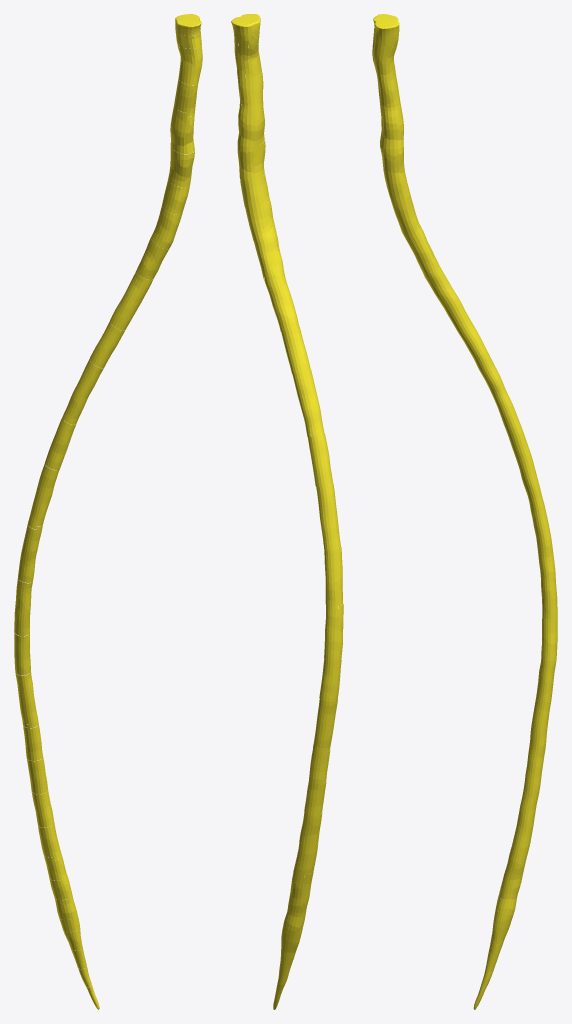
File: VH_M_Spinal_Cord_0.4.glb
The picture shows the model from 3 angles, left to right: view 1: azimuth 90°, elevation 25°; view 2: azimuth 210°, elevation 25°; view 3: azimuth 270°, elevation 25°; orthographic projection. The views are drawn at different scales.
Parts seen in each view (by area): view 1: VH_M_second_thoracic_spinal_cord_segment, VH_M_fourth_thoracic_spinal_cord_segment, VH_M_sixth_thoracic_spinal_cord_segment, VH_M_C5_segment_of_cervical_spinal_cord, VH_M_seventh_thoracic_spinal_cord_segment, VH_M_eighth_thoracic_spinal_cord_segment, VH_M_tenth_thoracic_spinal_cord_segment, VH_M_C3_segment_of_cervical_spinal_cord, VH_M_fifth_thoracic_spinal_cord_segment, VH_M_C8_segment_of_cervical_spinal_cord, VH_M_C6_segment_of_cervical_spinal_cord, VH_M_third_thoracic_spinal_cord_segment (+9 smaller); view 2: VH_M_fourth_thoracic_spinal_cord_segment, VH_M_second_thoracic_spinal_cord_segment, VH_M_sixth_thoracic_spinal_cord_segment, VH_M_C5_segment_of_cervical_spinal_cord, VH_M_seventh_thoracic_spinal_cord_segment, VH_M_eighth_thoracic_spinal_cord_segment, VH_M_fifth_thoracic_spinal_cord_segment, VH_M_tenth_thoracic_spinal_cord_segment, VH_M_C6_segment_of_cervical_spinal_cord, VH_M_C8_segment_of_cervical_spinal_cord, VH_M_third_thoracic_spinal_cord_segment, VH_M_first_thoracic_spinal_cord_segment (+13 smaller); view 3: VH_M_second_thoracic_spinal_cord_segment, VH_M_fourth_thoracic_spinal_cord_segment, VH_M_sixth_thoracic_spinal_cord_segment, VH_M_C5_segment_of_cervical_spinal_cord, VH_M_seventh_thoracic_spinal_cord_segment, VH_M_tenth_thoracic_spinal_cord_segment, VH_M_eighth_thoracic_spinal_cord_segment, VH_M_fifth_thoracic_spinal_cord_segment, VH_M_C6_segment_of_cervical_spinal_cord, VH_M_C3_segment_of_cervical_spinal_cord, VH_M_third_thoracic_spinal_cord_segment, VH_M_ninth_thoracic_spinal_cord_segment (+9 smaller).
Boxes of the visible parts, x1,y1,x2,y2 form: VH_M_second_thoracic_spinal_cord_segment: [109, 270, 152, 330]; VH_M_fourth_thoracic_spinal_cord_segment: [62, 359, 103, 424]; VH_M_sixth_thoracic_spinal_cord_segment: [28, 464, 60, 529]; VH_M_C5_segment_of_cervical_spinal_cord: [170, 105, 194, 153]; VH_M_seventh_thoracic_spinal_cord_segment: [18, 524, 42, 582]; VH_M_eighth_thoracic_spinal_cord_segment: [14, 578, 32, 636]; VH_M_tenth_thoracic_spinal_cord_segment: [15, 669, 38, 727]; VH_M_C3_segment_of_cervical_spinal_cord: [177, 42, 202, 85]; VH_M_fifth_thoracic_spinal_cord_segment: [45, 417, 75, 470]; VH_M_C8_segment_of_cervical_spinal_cord: [151, 206, 182, 249]; VH_M_C6_segment_of_cervical_spinal_cord: [168, 145, 194, 187]; VH_M_third_thoracic_spinal_cord_segment: [89, 322, 124, 367]; VH_M_fourth_thoracic_spinal_cord_segment: [292, 369, 324, 436]; VH_M_second_thoracic_spinal_cord_segment: [264, 271, 299, 331]; VH_M_sixth_thoracic_spinal_cord_segment: [316, 483, 340, 550]; VH_M_C5_segment_of_cervical_spinal_cord: [237, 101, 264, 146]; VH_M_seventh_thoracic_spinal_cord_segment: [324, 547, 342, 609]; VH_M_eighth_thoracic_spinal_cord_segment: [324, 604, 343, 661]; VH_M_fifth_thoracic_spinal_cord_segment: [307, 433, 332, 486]; VH_M_tenth_thoracic_spinal_cord_segment: [313, 699, 337, 752]; VH_M_C6_segment_of_cervical_spinal_cord: [237, 141, 265, 179]; VH_M_C8_segment_of_cervical_spinal_cord: [245, 201, 276, 241]; VH_M_third_thoracic_spinal_cord_segment: [281, 327, 310, 373]; VH_M_first_thoracic_spinal_cord_segment: [254, 236, 283, 280]; VH_M_second_thoracic_spinal_cord_segment: [422, 260, 463, 317]; VH_M_fourth_thoracic_spinal_cord_segment: [470, 344, 510, 406]; VH_M_sixth_thoracic_spinal_cord_segment: [512, 445, 544, 509]; VH_M_C5_segment_of_cervical_spinal_cord: [380, 102, 403, 149]; VH_M_seventh_thoracic_spinal_cord_segment: [529, 502, 554, 564]; VH_M_tenth_thoracic_spinal_cord_segment: [534, 659, 556, 716]; VH_M_eighth_thoracic_spinal_cord_segment: [539, 562, 557, 618]; VH_M_fifth_thoracic_spinal_cord_segment: [497, 399, 527, 450]; VH_M_C6_segment_of_cervical_spinal_cord: [380, 143, 405, 183]; VH_M_C3_segment_of_cervical_spinal_cord: [372, 41, 396, 81]; VH_M_third_thoracic_spinal_cord_segment: [449, 308, 483, 352]; VH_M_ninth_thoracic_spinal_cord_segment: [541, 614, 557, 660].
Size of the model in its own units: 0.0207 by 0.4652 by 0.0797.
